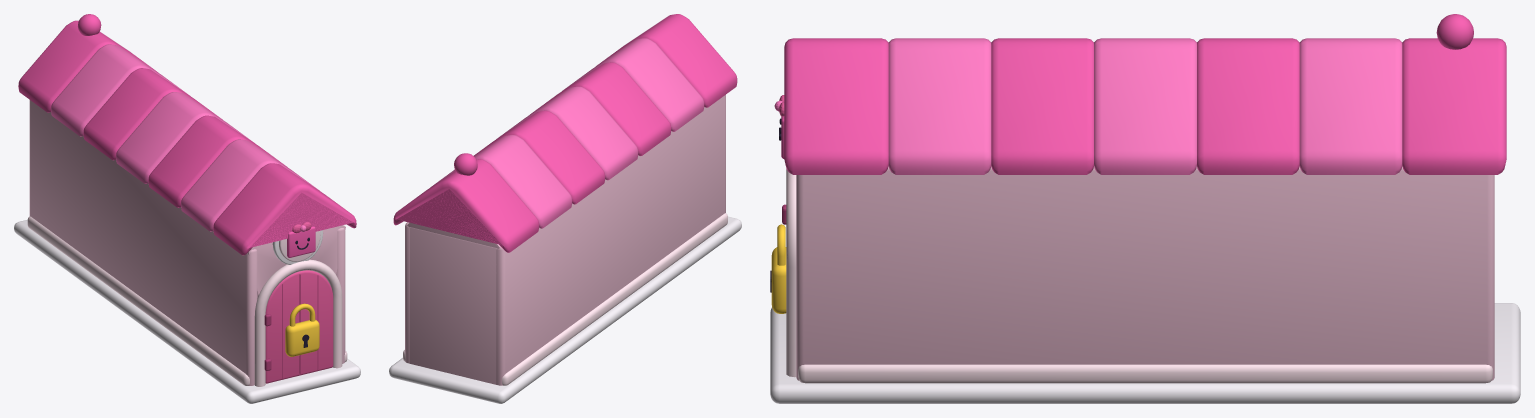
File: locked-house-pink.fbx
3 renders of one model, left to right at view 1: azimuth 30°, elevation 25°; view 2: azimuth 150°, elevation 25°; view 3: azimuth 270°, elevation 25°, orthographic. The views are drawn at different scales.
Parts seen in each view (by area): view 1: Body, Roof, Door, DoorFrame, Emblem, Padlock; view 2: Body, Roof; view 3: Body, Roof, DoorFrame, Padlock.
Part boxes in pixels (box(x1,y1,x2,y2)): Body: box(14, 100, 360, 403); Roof: box(18, 14, 356, 255); Door: box(264, 270, 333, 383); DoorFrame: box(254, 259, 342, 386); Emblem: box(272, 222, 323, 264); Padlock: box(285, 320, 319, 356); Body: box(389, 95, 741, 403); Roof: box(393, 14, 737, 252); Body: box(770, 166, 1520, 403); Roof: box(784, 14, 1506, 174); DoorFrame: box(786, 169, 796, 377); Padlock: box(770, 247, 786, 313).
Size of the model in its own units: 1.28 by 2.35 by 4.6.
